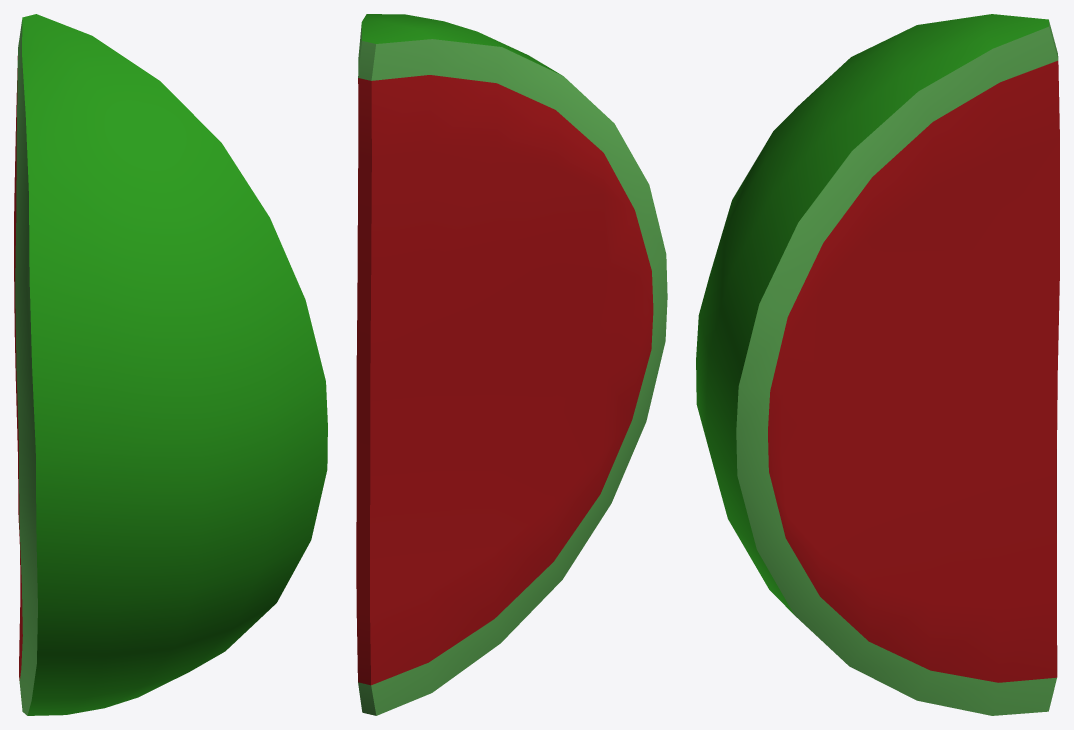
File: Melancia.FBX
3 renders of one model, left to right at view 1: azimuth 30°, elevation 25°; view 2: azimuth 150°, elevation 25°; view 3: azimuth 270°, elevation 25°, orthographic.
Visible parts, largest first — view 1: Sphere001; view 2: Sphere001; view 3: Sphere001.
Part boxes in pixels (x1=…): Sphere001: x1=14, y1=14, x2=327, y2=715; Sphere001: x1=356, y1=14, x2=667, y2=715; Sphere001: x1=696, y1=14, x2=1059, y2=715.
Bounding box in the file's own units: 26.86 × 59.15 × 28.47.
